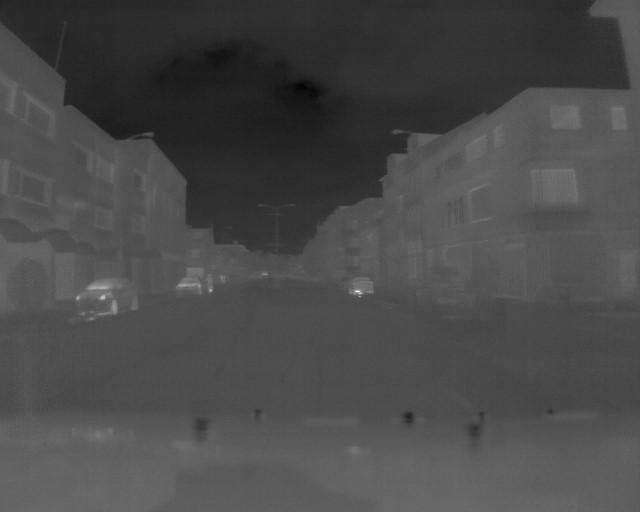car: (72, 277, 143, 323), (344, 274, 377, 298), (174, 274, 202, 297)
